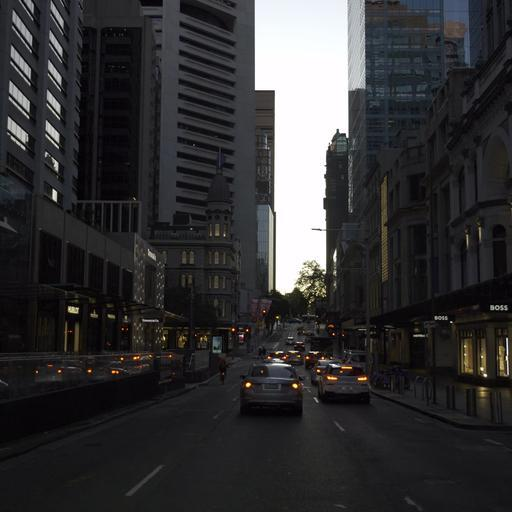Street light: (60, 195, 139, 352), (310, 226, 370, 375), (311, 226, 341, 232)
